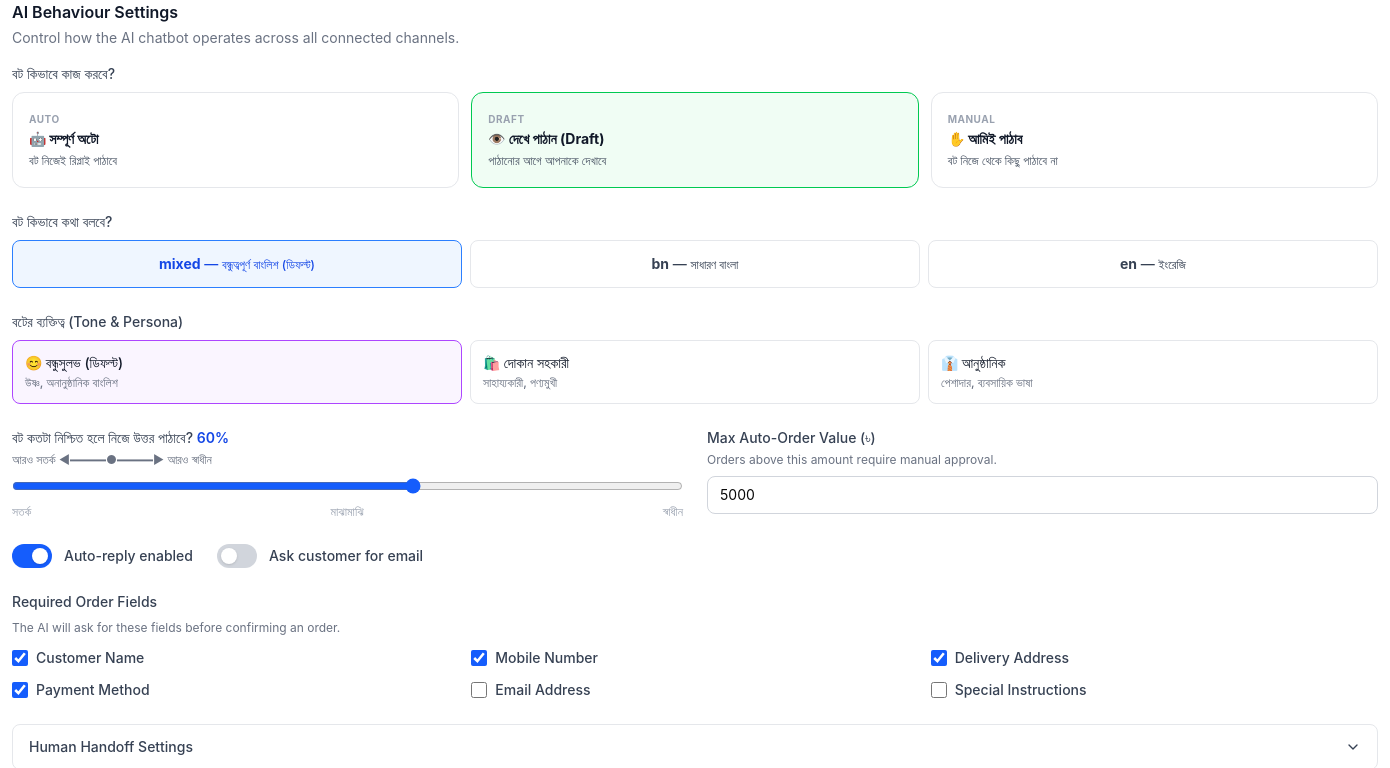
Scenario: AISettingsForm › shows error notice when save fails
Replace the text in the number field labelled "Max Auto-Order Value (৳)" with "10000" at [1042, 495], box left=707, top=476, right=1378, bottom=514
(page scrolled)
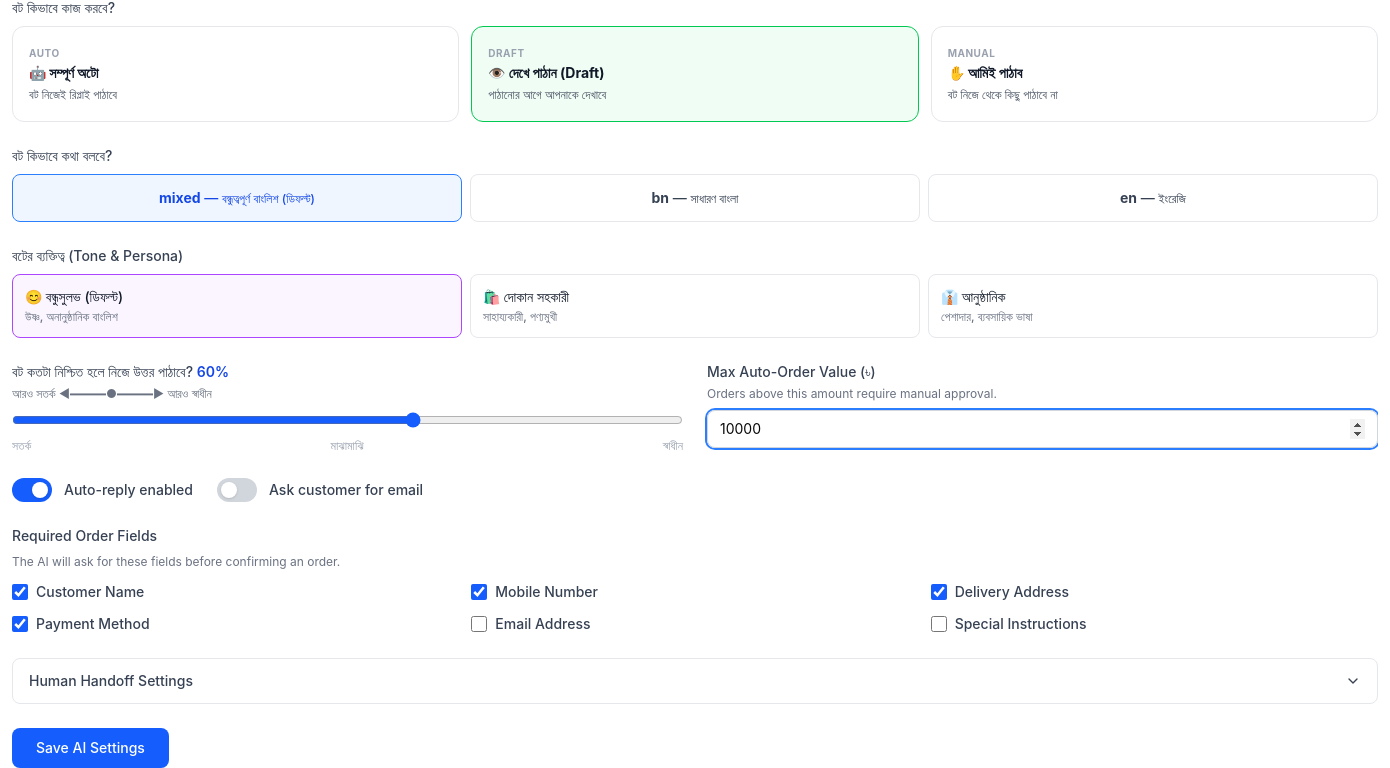
Click the button "Save AI Settings".
click(90, 748)  # box left=12, top=728, right=169, bottom=767
(page scrolled)
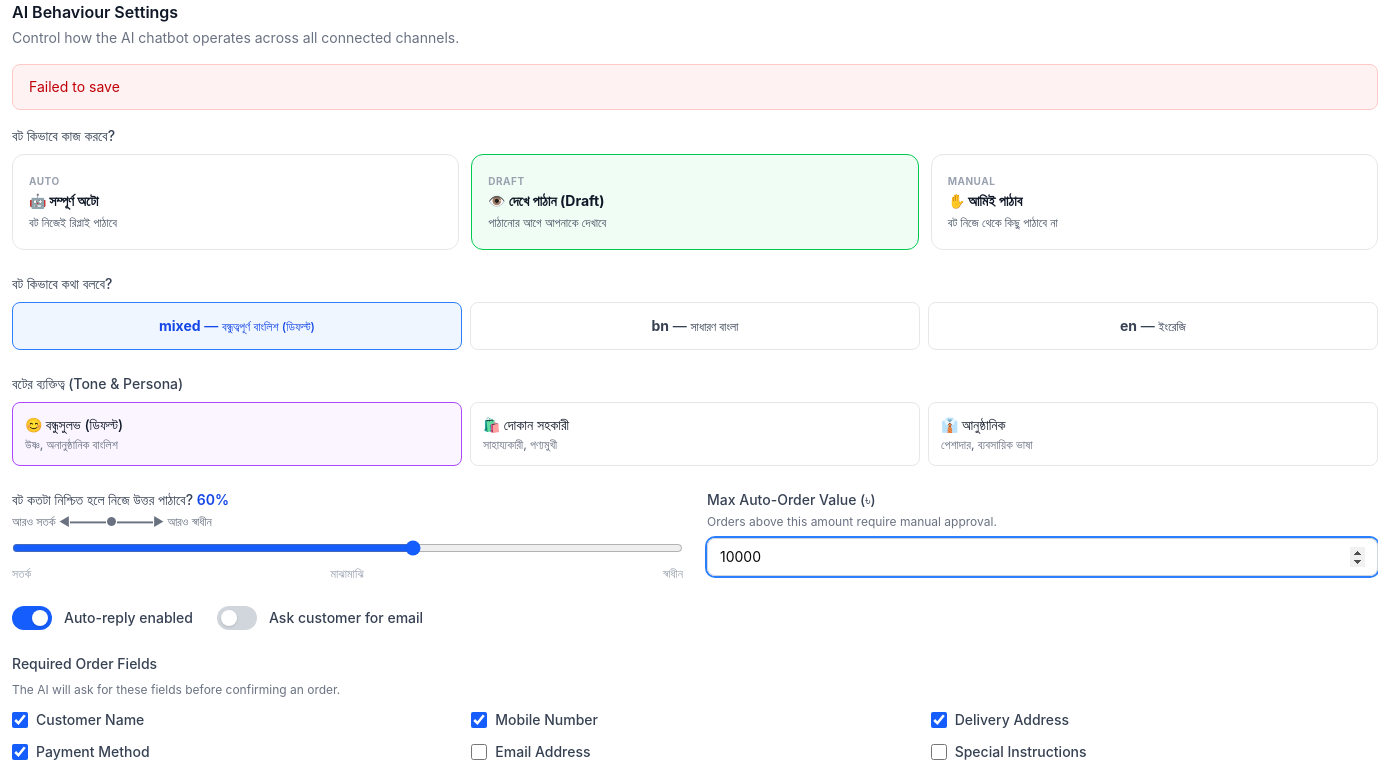
Expected: the text "Failed to save" is shown, left=12, top=64, right=1378, bottom=110
